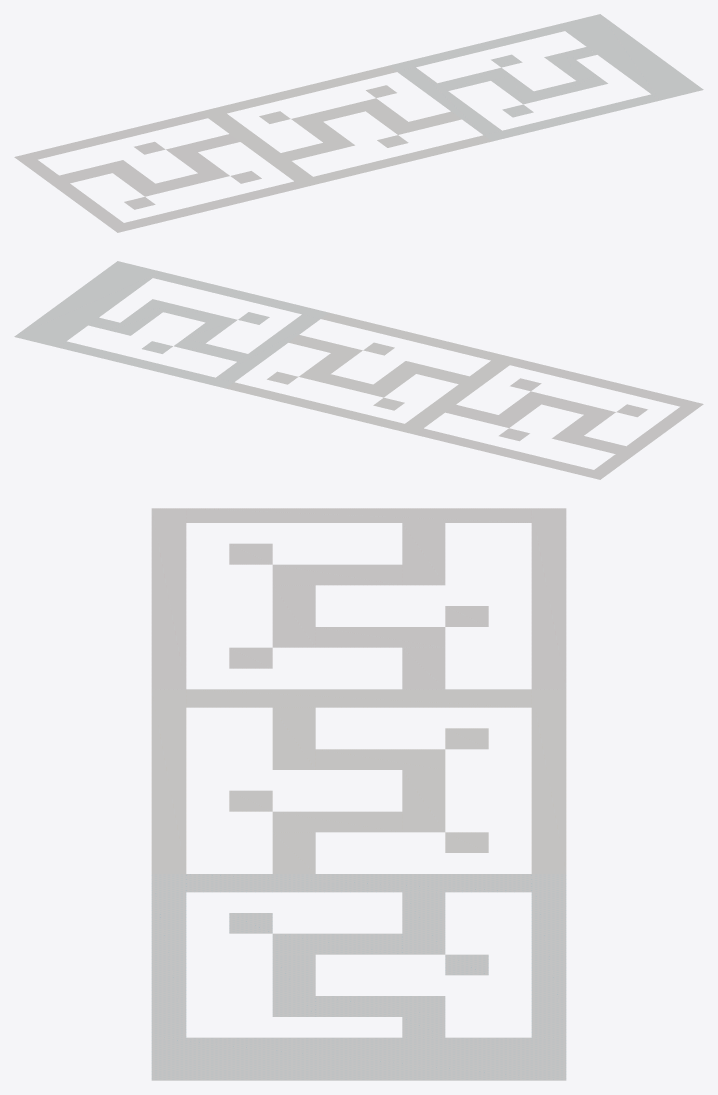
The model's file is Asfalto percorribile2.glb.
The picture shows the model from 3 angles, top to bottom: view 1: azimuth 30°, elevation 25°; view 2: azimuth 150°, elevation 25°; view 3: azimuth 270°, elevation 25°; orthographic projection. The views are drawn at different scales.
Visible parts, largest first — view 1: Asfalto_percorribile_1, Asfalto_percorribile_2_2, Asfalto_percorribile_2; view 2: Asfalto_percorribile_1, Asfalto_percorribile_2_2, Asfalto_percorribile_2; view 3: Asfalto_percorribile_1, Asfalto_percorribile_2_2, Asfalto_percorribile_2.
Part boxes in pixels (left/top/right/bottom): Asfalto_percorribile_1: left=389, top=14, right=703, bottom=141; Asfalto_percorribile_2_2: left=199, top=65, right=491, bottom=187; Asfalto_percorribile_2: left=14, top=112, right=302, bottom=232; Asfalto_percorribile_1: left=14, top=261, right=328, bottom=388; Asfalto_percorribile_2_2: left=226, top=312, right=518, bottom=434; Asfalto_percorribile_2: left=415, top=359, right=703, bottom=479; Asfalto_percorribile_1: left=151, top=874, right=566, bottom=1080; Asfalto_percorribile_2_2: left=151, top=689, right=566, bottom=873; Asfalto_percorribile_2: left=151, top=508, right=566, bottom=689.
Size of the model in its own units: 78.36 by 4.05e-06 by 24.
3 materials, 3 textured.
